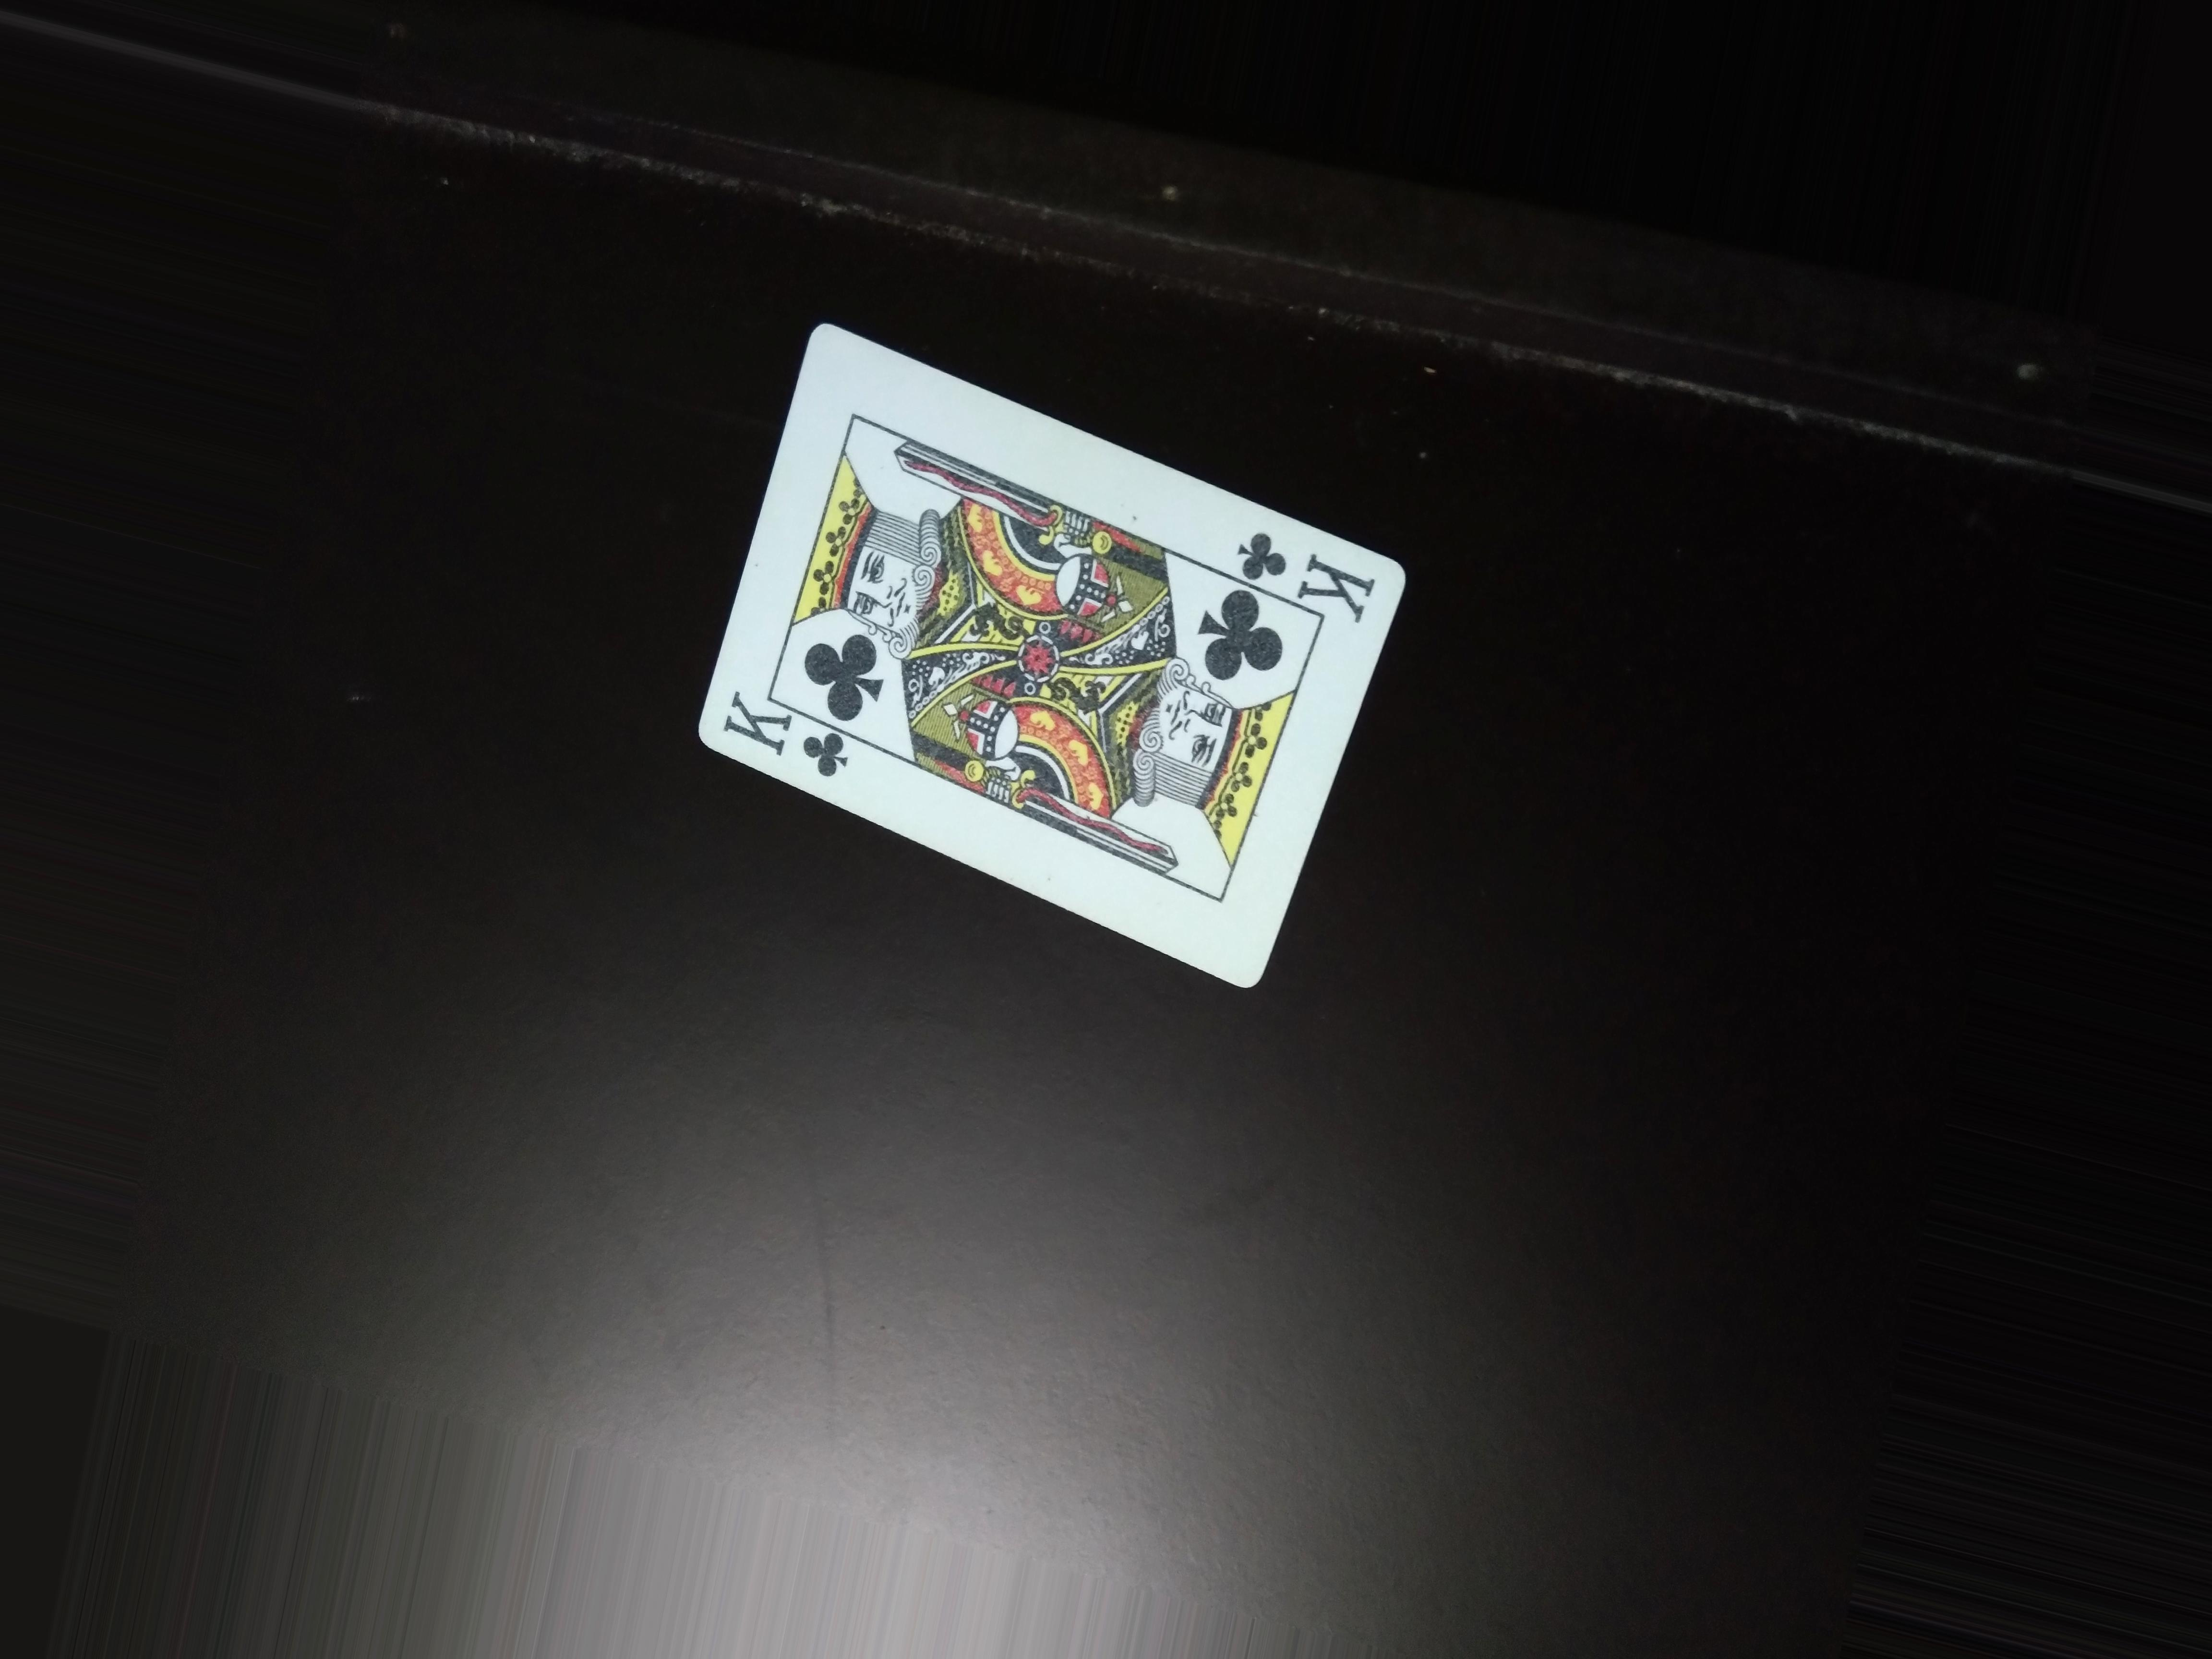KC: (1230, 525, 1407, 620)
